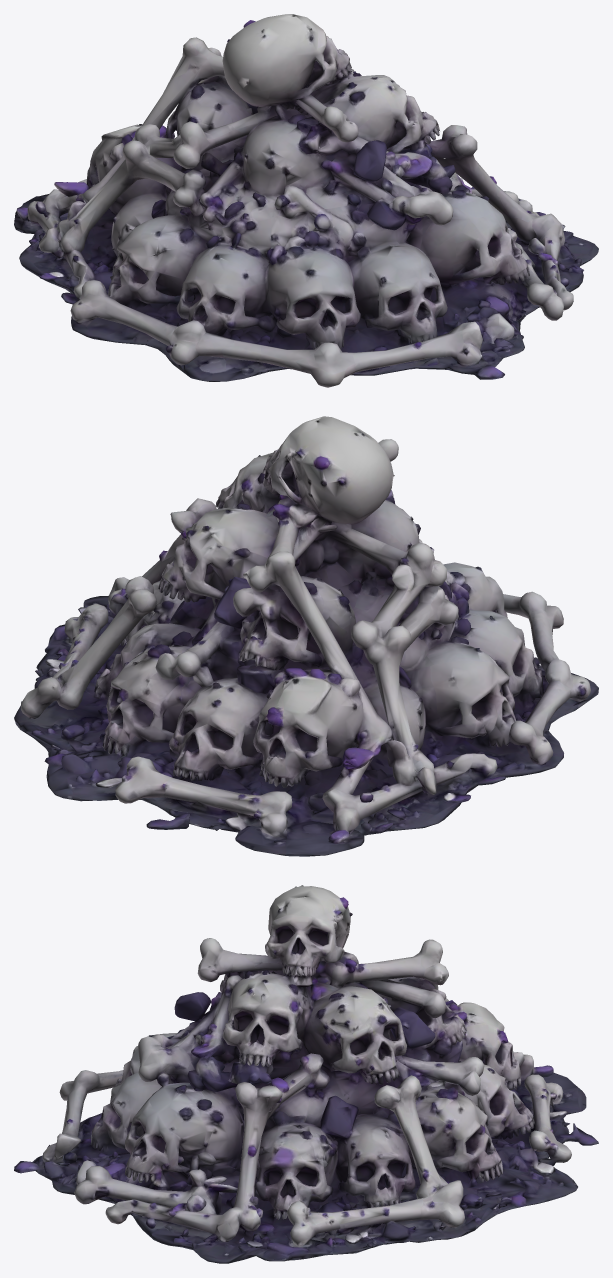
The model's file is bone_pile.glb.
3 views of the same model, one above another, from view 1: azimuth 30°, elevation 25°; view 2: azimuth 150°, elevation 25°; view 3: azimuth 270°, elevation 25° (orthographic). The views are drawn at different scales.
Visible parts, largest first — view 1: tripo_node_0149a462-8875-44a9-b7f1-9917661ce373; view 2: tripo_node_0149a462-8875-44a9-b7f1-9917661ce373; view 3: tripo_node_0149a462-8875-44a9-b7f1-9917661ce373.
Boxes of the visible parts, left/top/right/bottom form: tripo_node_0149a462-8875-44a9-b7f1-9917661ce373: left=14, top=14, right=598, bottom=387; tripo_node_0149a462-8875-44a9-b7f1-9917661ce373: left=14, top=416, right=598, bottom=856; tripo_node_0149a462-8875-44a9-b7f1-9917661ce373: left=14, top=885, right=598, bottom=1263.
Size of the model in its own units: 0.8738 by 0.4627 by 0.9787.
Materials: 1 (1 with a texture image).
